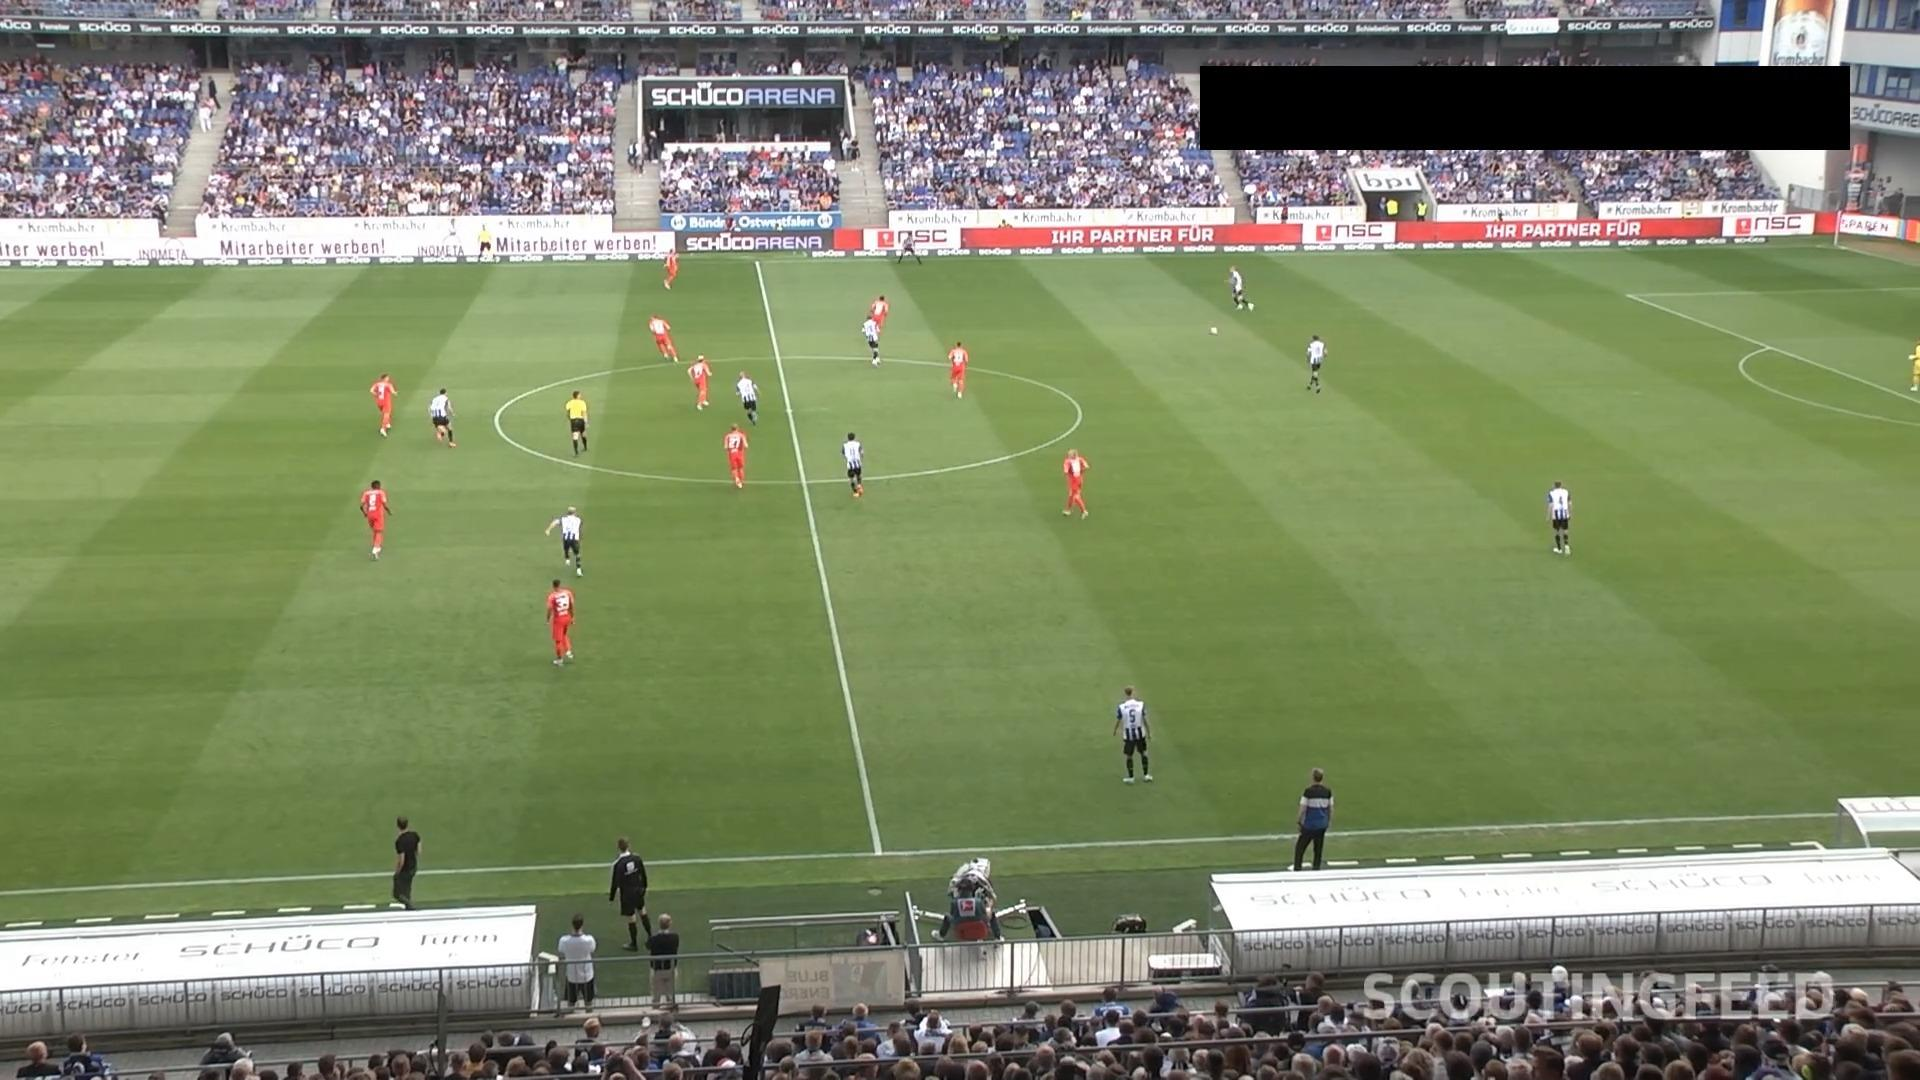ball: (1208, 326, 1218, 336)
